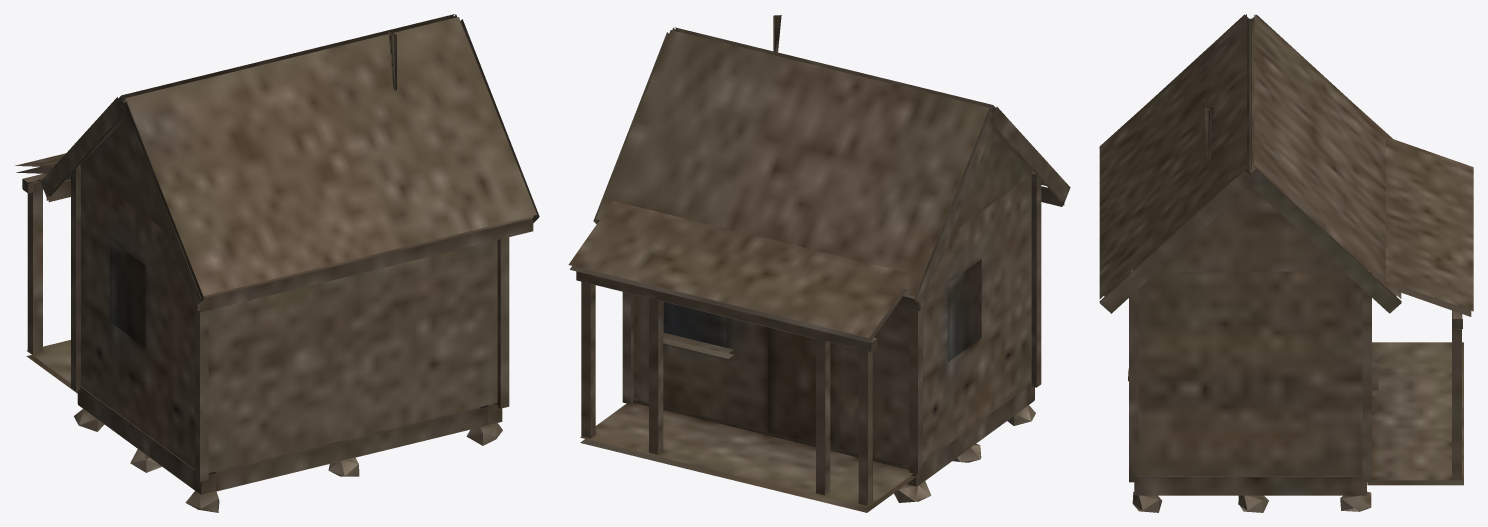
Rendered from b_house_xfar.glb.
3 renders of one model, left to right at view 1: azimuth 30°, elevation 25°; view 2: azimuth 150°, elevation 25°; view 3: azimuth 270°, elevation 25°, orthographic. The views are drawn at different scales.
Parts seen in each view (by area): view 1: b_house_xfar; view 2: b_house_xfar; view 3: b_house_xfar.
Part boxes in pixels (x1,y1,x2,y2): b_house_xfar: (15, 14, 539, 512); b_house_xfar: (568, 15, 1070, 512); b_house_xfar: (1099, 14, 1473, 512).
Size of the model in its own units: 3.88 by 4.33 by 3.94.
Materials: 1 (1 with a texture image).
